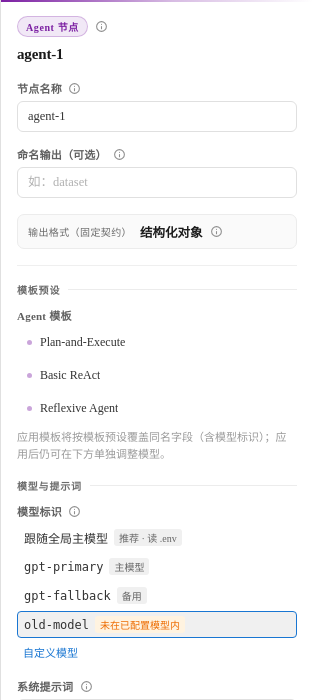
NodeConfigurationPanel Agent 模板集成（P3 调用链，T3.4） › TC-NTINT-07 入参不可变：应用前后 canvasState/template 对象不变（AC-NT-13）
Click the element titled "Basic ReAct": (64, 375) [27,368,100,382]
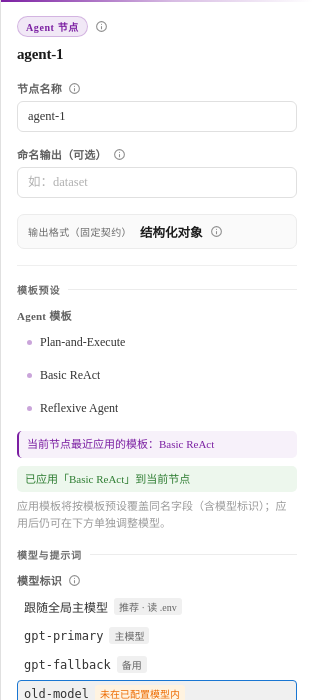
Now the text "已应用「Basic ReAct」到当前节点" is shown, box [17,466,297,492]
